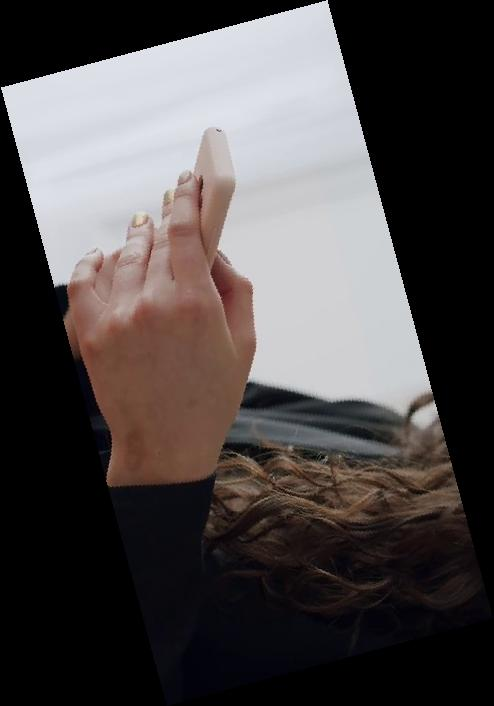phone: (192, 121, 239, 277)
